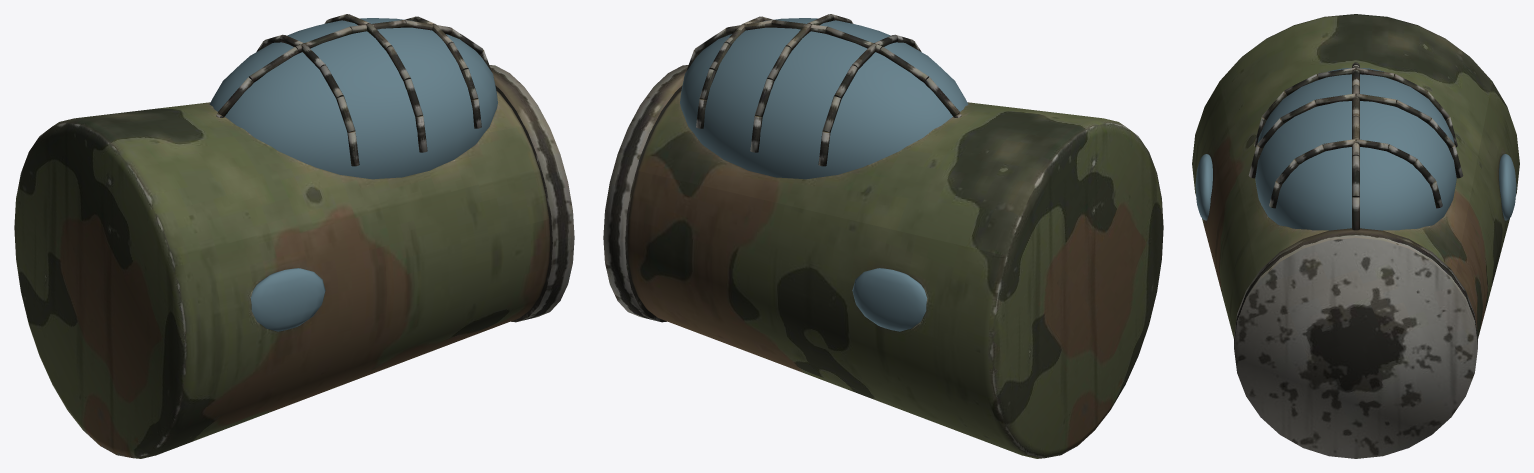
Rendered from turret_kit_tail_cabin_forest.glb.
The picture shows the model from 3 angles, left to right: view 1: azimuth 30°, elevation 25°; view 2: azimuth 150°, elevation 25°; view 3: azimuth 270°, elevation 25°; orthographic projection. The views are drawn at different scales.
Visible parts, largest first — view 1: turret_tail_cabin; view 2: turret_tail_cabin; view 3: turret_tail_cabin.
Boxes of the visible parts, <box> form: turret_tail_cabin: <box>14,14,574,458</box>; turret_tail_cabin: <box>603,14,1163,458</box>; turret_tail_cabin: <box>1192,14,1519,458</box>.
Size of the model in its own units: 1.14 by 0.9506 by 0.8335.
2 materials, 1 textured.
